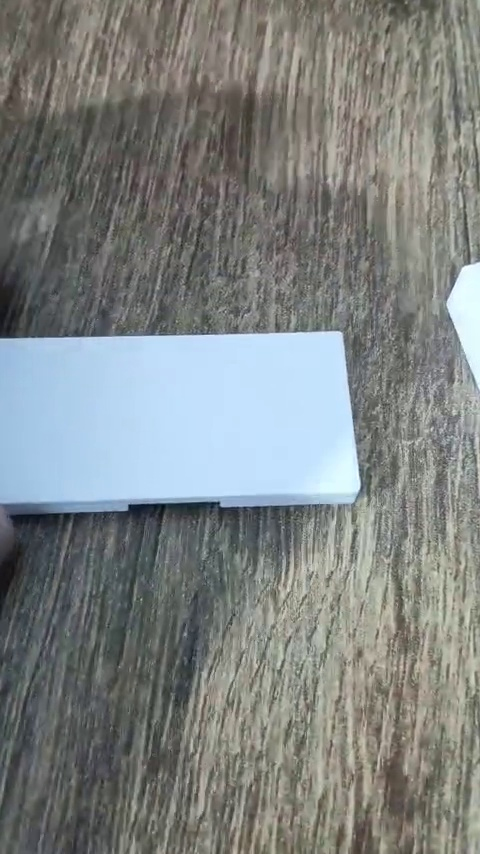lid: (0, 331, 362, 515)
